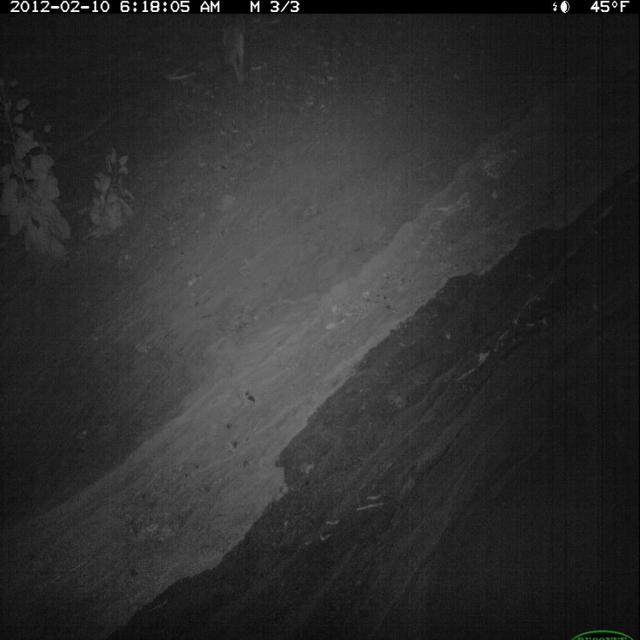coyote: (217, 14, 249, 95)
